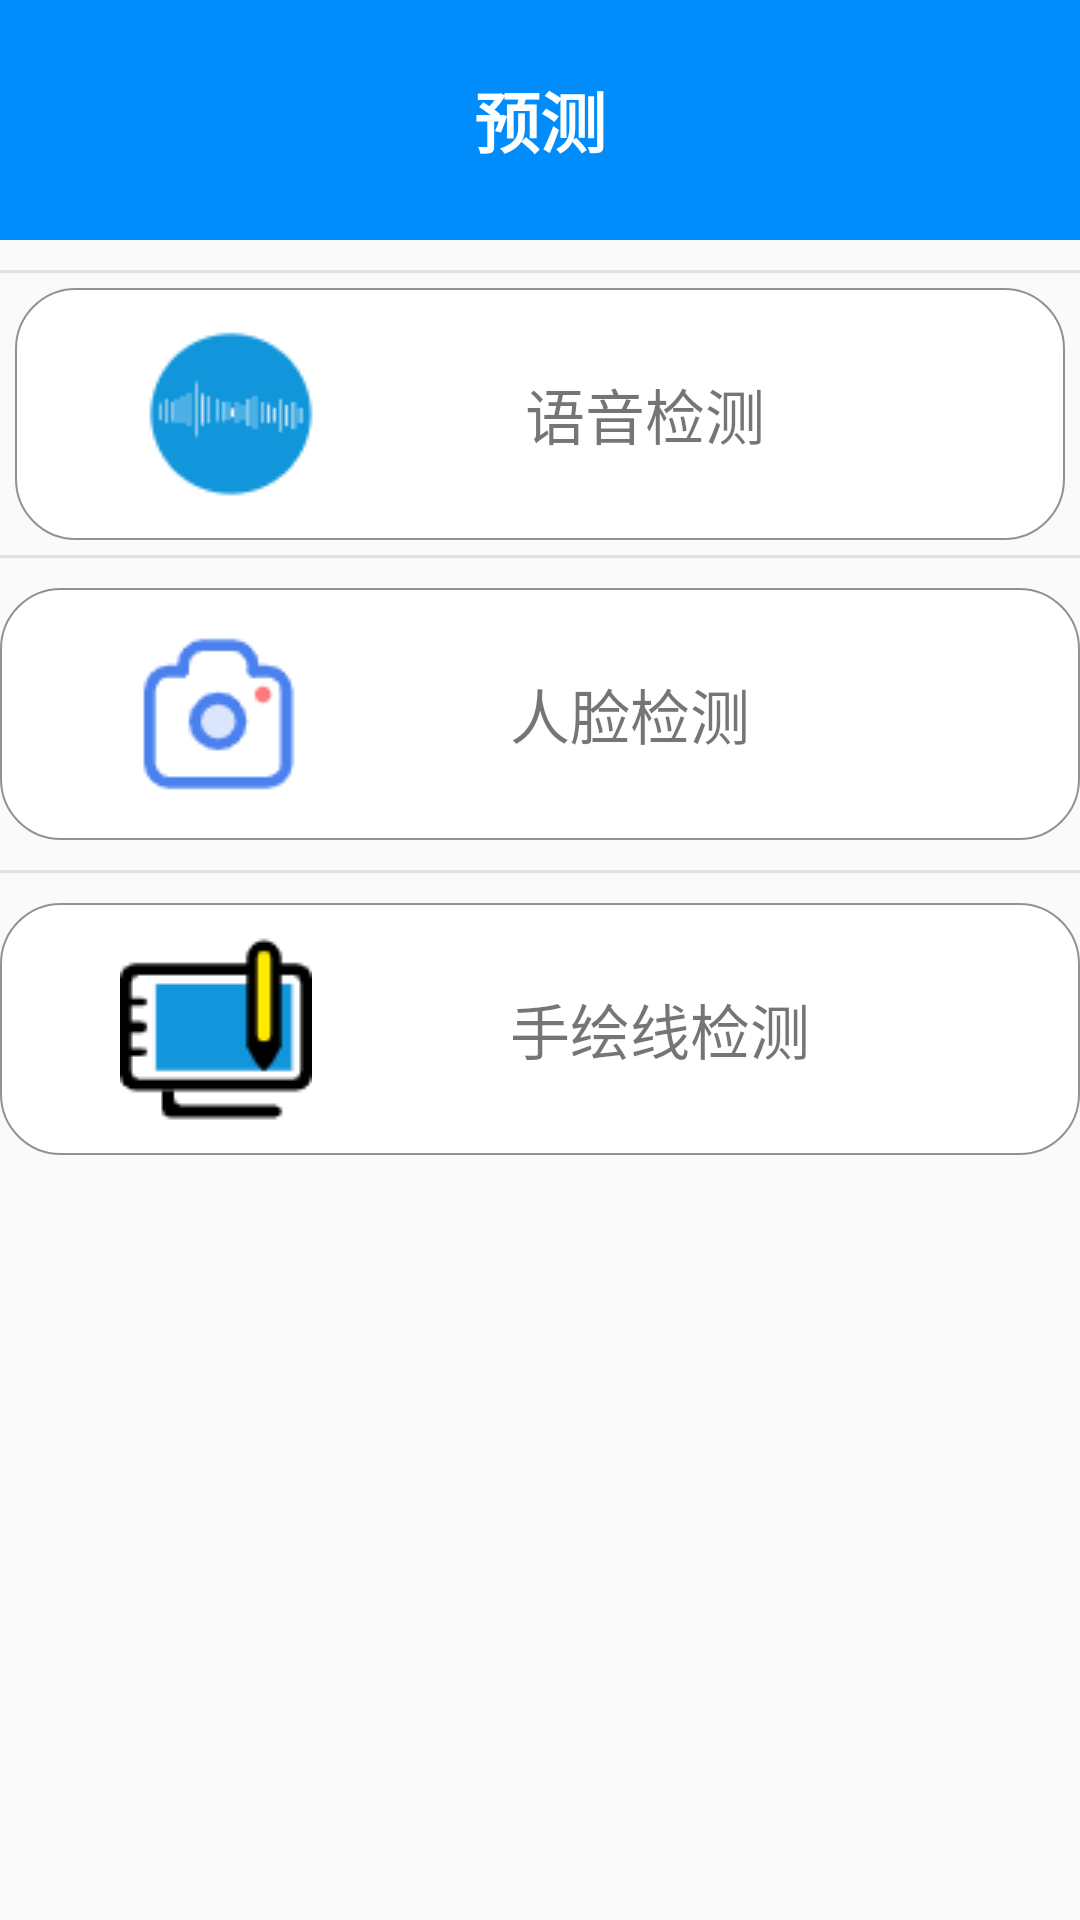

Named icons in this screenshot (1080x1920) and their bounding boxes, detection(x1, y1, x2, y2):
audio: detection(149, 332, 313, 496)
takephoto: detection(143, 638, 295, 790)
